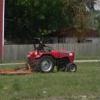Tractor: (20, 39, 89, 81)
